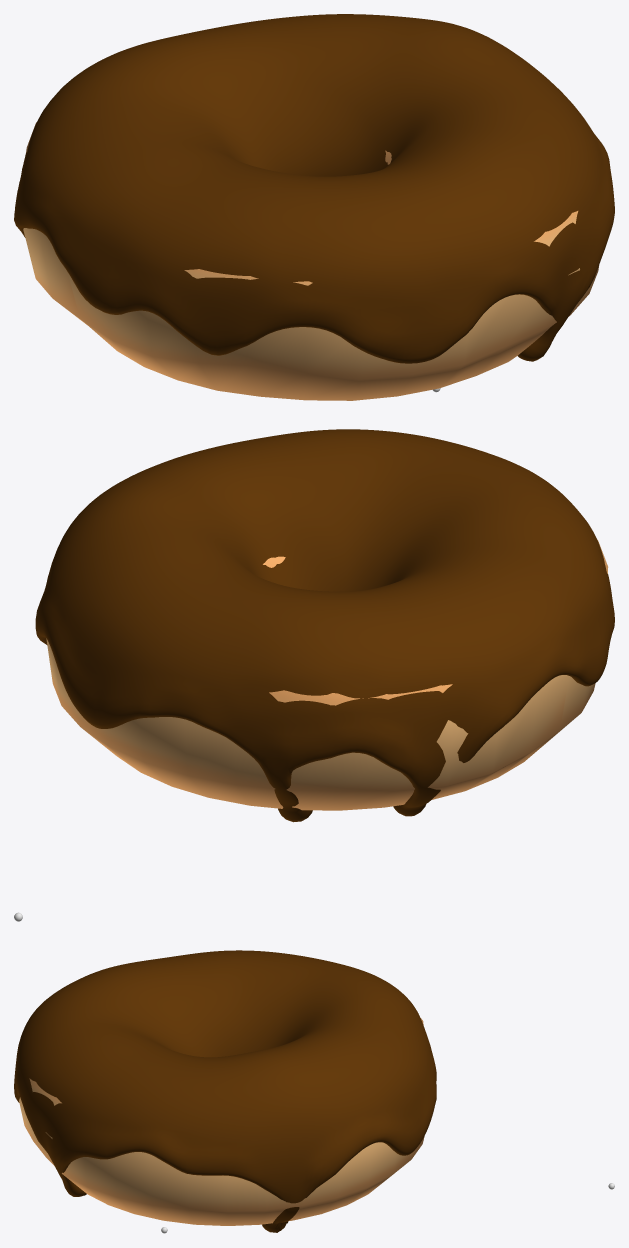
File: Donut.glb
3 renders of one model, top to bottom at view 1: azimuth 30°, elevation 25°; view 2: azimuth 150°, elevation 25°; view 3: azimuth 270°, elevation 25°, orthographic. The views are drawn at different scales.
Parts seen in each view (by area): view 1: icing, Donut; view 2: icing, Donut; view 3: icing, Donut.
Part boxes in pixels (left/top/right/bottom): icing: left=14, top=14, right=614, bottom=363; Donut: left=23, top=122, right=599, bottom=400; icing: left=35, top=429, right=614, bottom=822; Donut: left=46, top=539, right=608, bottom=810; icing: left=14, top=950, right=436, bottom=1232; Donut: left=19, top=1018, right=424, bottom=1225.
Size of the model in its own units: 1.29 by 0.6879 by 1.83.
2 materials, 1 textured.
